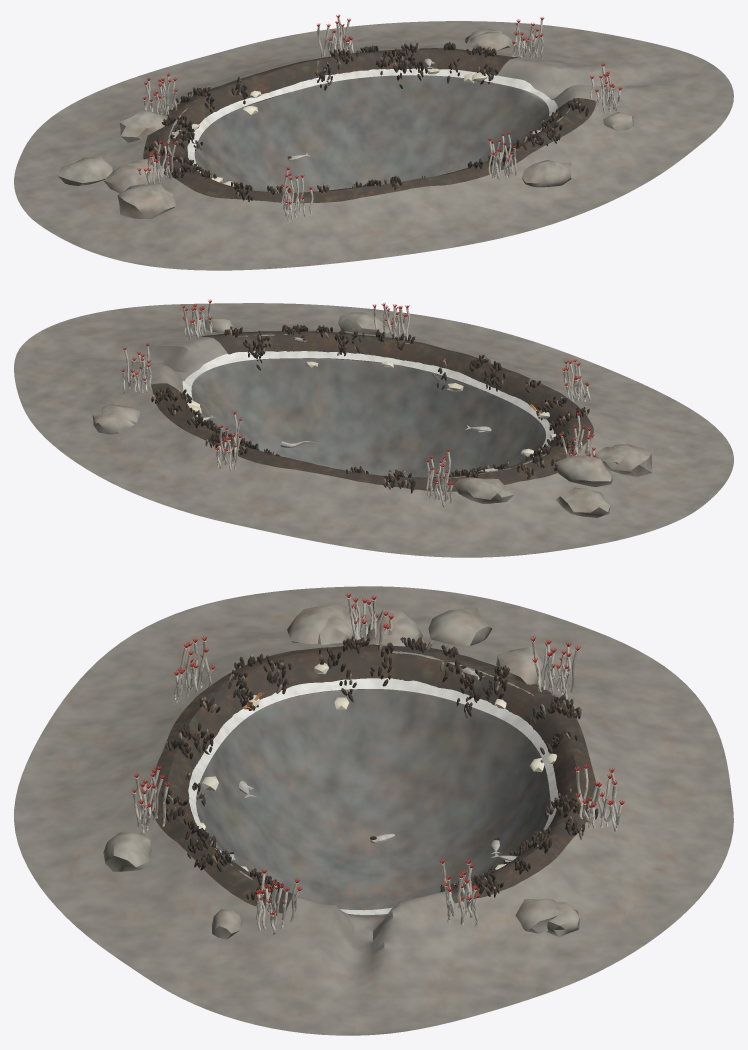
The model's file is SM_BrinePool.fbx.
The picture shows the model from 3 angles, top to bottom: view 1: azimuth 30°, elevation 25°; view 2: azimuth 150°, elevation 25°; view 3: azimuth 270°, elevation 25°; orthographic projection. The views are drawn at different scales.
Parts seen in each view (by area): view 1: SM_BrinePool; view 2: SM_BrinePool; view 3: SM_BrinePool.
Boxes of the visible parts, x1=… form: SM_BrinePool: x1=14, y1=14, x2=733, y2=270; SM_BrinePool: x1=14, y1=299, x2=733, y2=557; SM_BrinePool: x1=14, y1=586, x2=733, y2=1035.
Bounding box in the file's own units: 14.04 × 2.71 × 9.51.
Materials: 1 (1 with a texture image).
